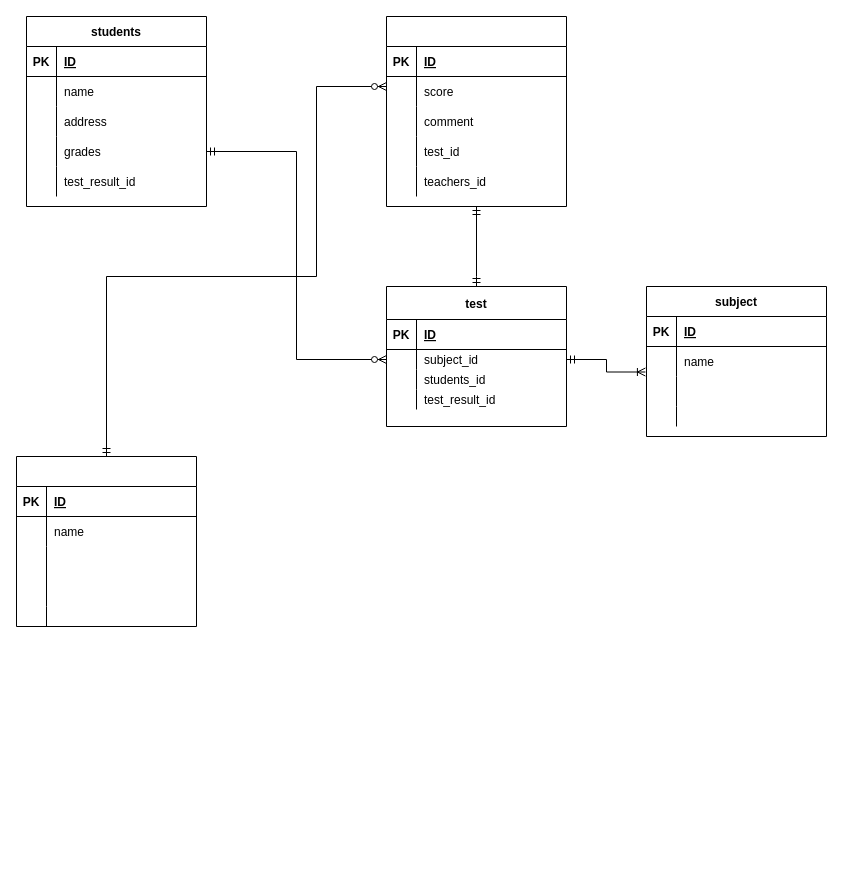
Some shapes in this 843 by 883 pixel diagram are drawn without their labels. The shapes that lost their labels are listed below. From the top down, each one's box as (x1, y1, x2, y2) in pixels, then its label:
(386, 16, 566, 206): test_result
(16, 456, 196, 626): teachers
